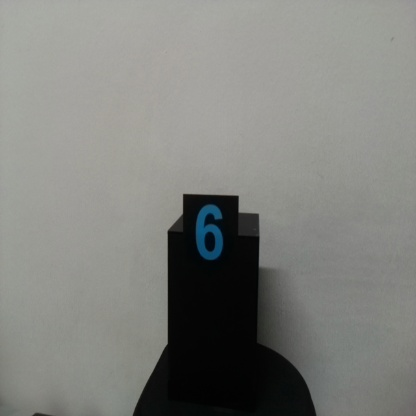id_6: (184, 196, 239, 275)
